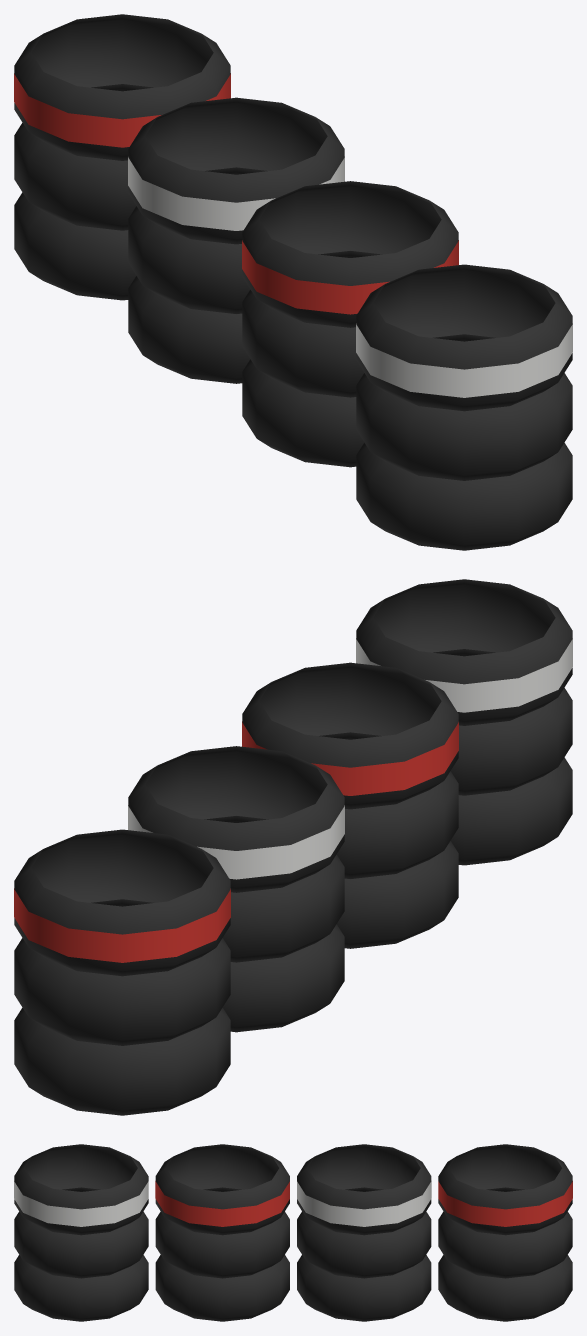
File: SM_StackedTyres.fbx
The picture shows the model from 3 angles, top to bottom: view 1: azimuth 30°, elevation 25°; view 2: azimuth 150°, elevation 25°; view 3: azimuth 270°, elevation 25°; orthographic projection. The views are drawn at different scales.
Parts seen in each view (by area): view 1: SM_StackedTyres; view 2: SM_StackedTyres; view 3: SM_StackedTyres.
Part boxes in pixels (x1,y1,x2,y2): SM_StackedTyres: [14, 14, 572, 550]; SM_StackedTyres: [14, 579, 572, 1115]; SM_StackedTyres: [14, 1144, 572, 1321].
Bounding box in the file's own units: 76.2 × 81 × 316.
